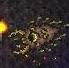crimera: (0, 1, 69, 68)
